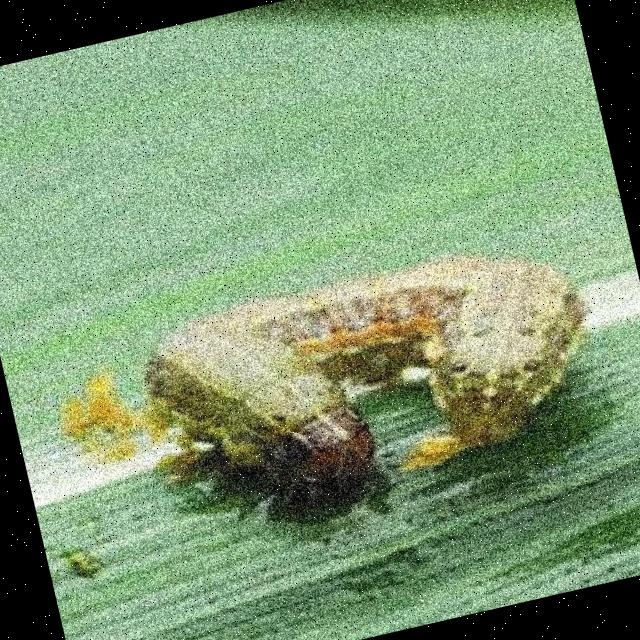worm: (122, 224, 623, 555)
